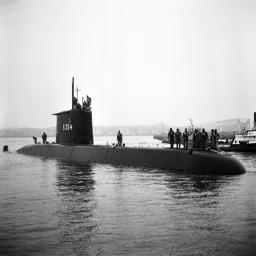submarine: (4, 77, 247, 176)
